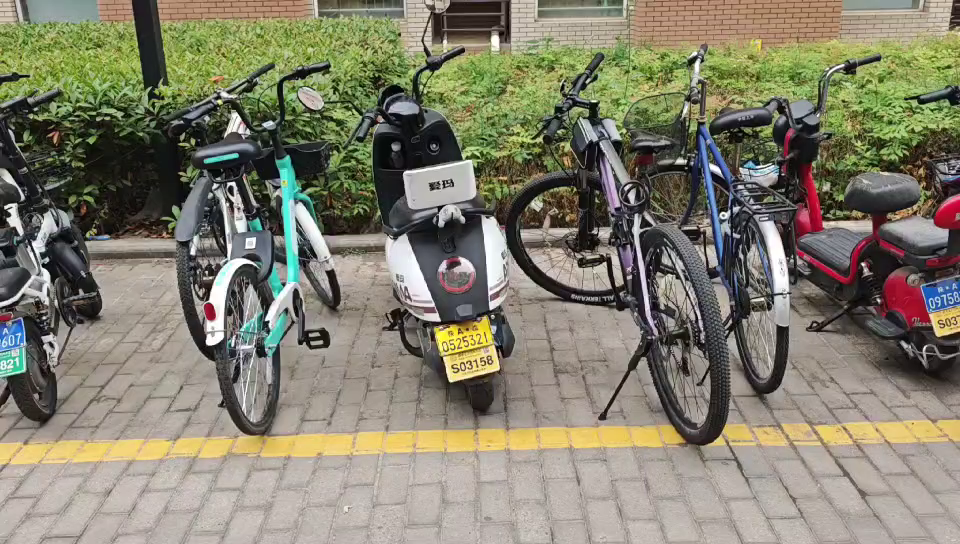others: (527, 53, 726, 453), (766, 59, 958, 374), (343, 56, 510, 396), (640, 53, 789, 399), (2, 66, 107, 431)
shared_bike_qingcong: (190, 82, 332, 428)
